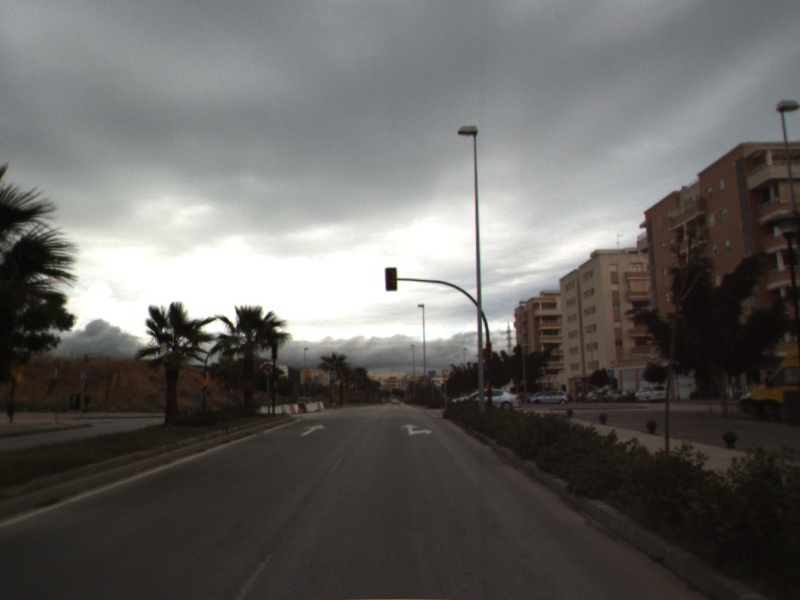STRAIGHT: (299, 422, 327, 438)
STRAIGHT_RIGHT: (398, 421, 434, 437)
